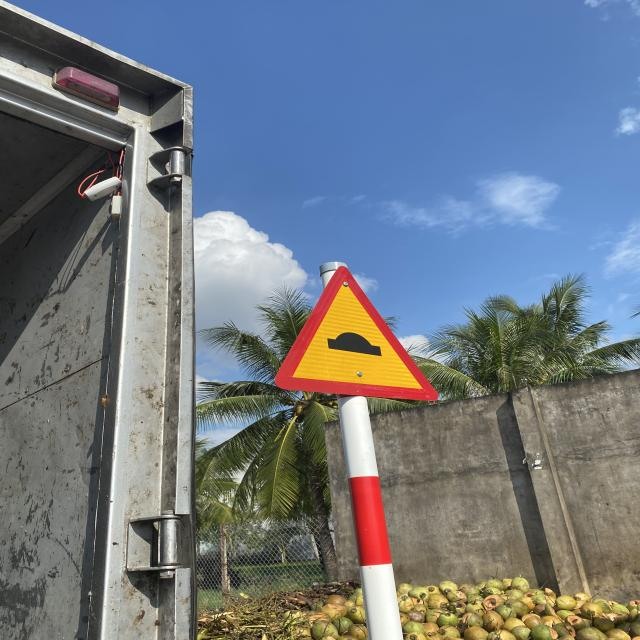Duong_Cong_Ben_Phai: (276, 266, 440, 402)
